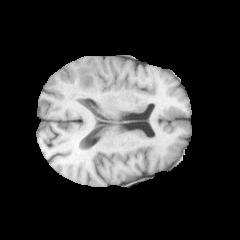glioma: (71, 65, 99, 98)
